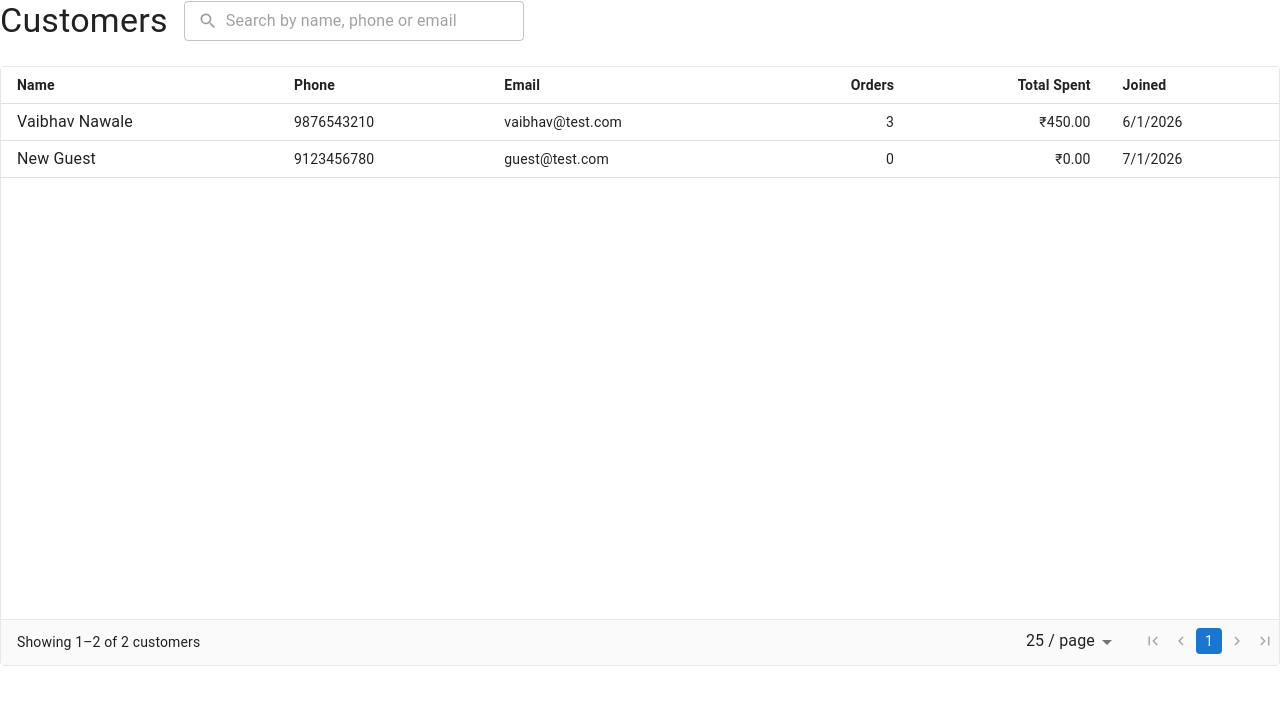
Test: Customers - list and search › opens the customer's order history when a row is clicked
Click the text "Vaibhav Nawale": (75, 122) left=17, top=112, right=133, bottom=131
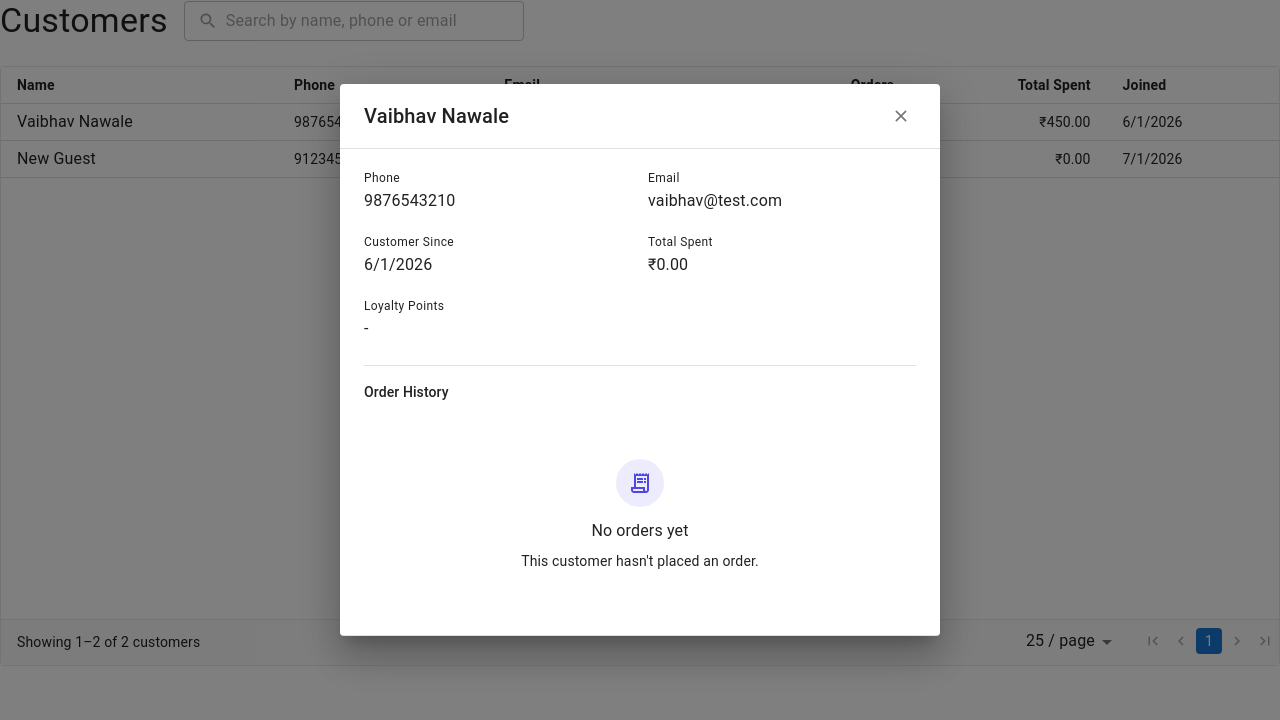
Result: the text "No orders yet" is shown at left=591, top=520, right=689, bottom=544
